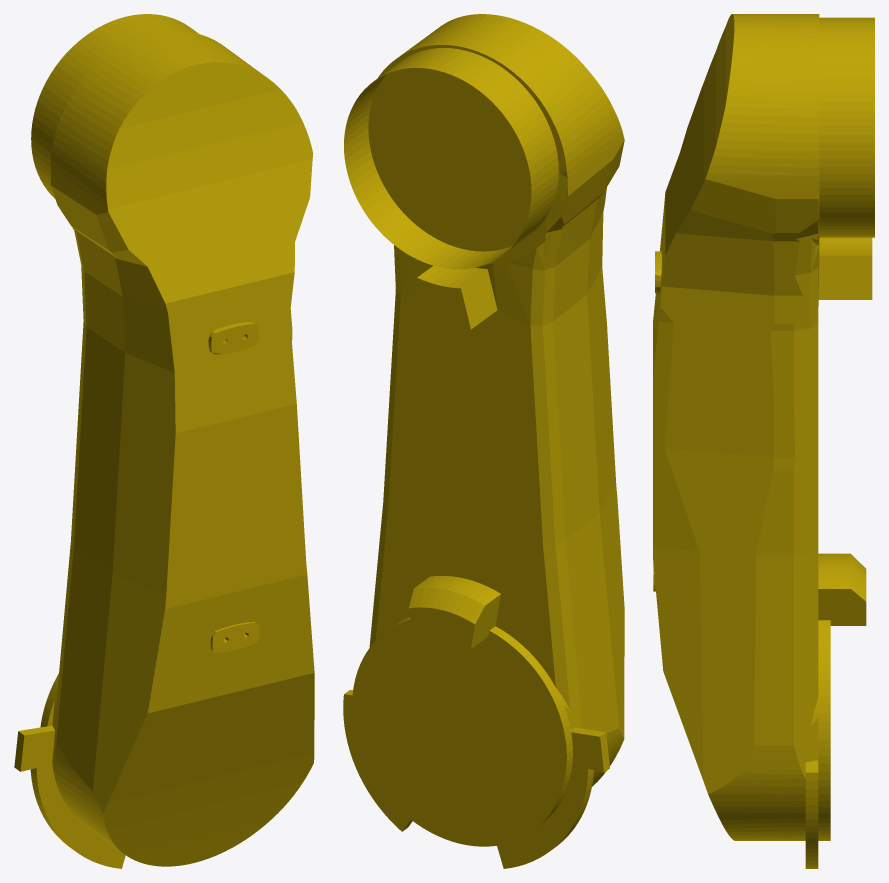
3 views of the same model, side by side, from view 1: azimuth 30°, elevation 25°; view 2: azimuth 150°, elevation 25°; view 3: azimuth 270°, elevation 25° (orthographic).
Parts seen in each view (by area): view 1: Mesh; view 2: Mesh; view 3: Mesh.
Part boxes in pixels (<box>): Mesh: <box>14,14,314,868</box>; Mesh: <box>343,14,624,868</box>; Mesh: <box>653,14,874,868</box>.
Bounding box in the file's own units: 0.4689 × 0.3403 × 1.4.
